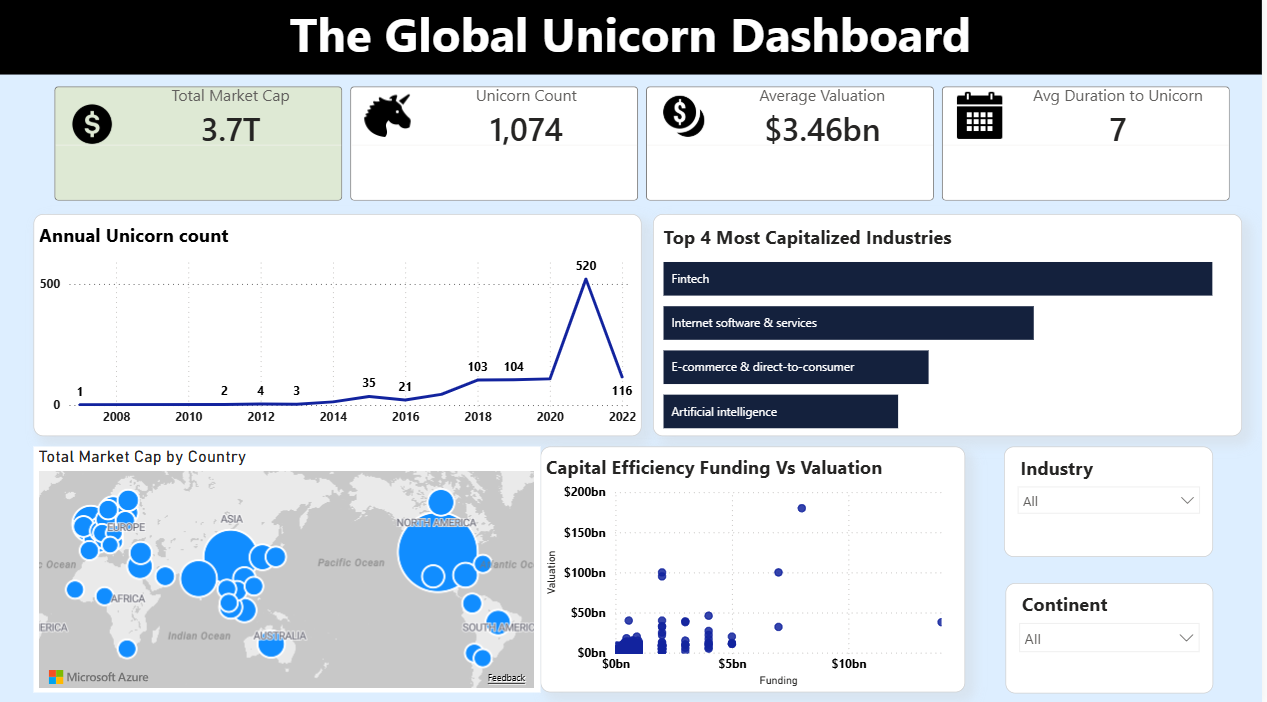

This screenshot's page, from the dashboard's own definition file:
{"tool":"powerbi","page":{"name":"Home","canvas":[1280,720],"ordinal":0},"visuals":[{"type":"cardVisual","fields":{"Data":["_measures.Total Market Cap","_measures.Unicorn Count","_measures.Average Valuation","_measures.Avg Duration to Unicorn"]},"box":[43.7,81,1217.7,140.9],"z":0},{"type":"lineChart","title":"Annual Unicorn count","fields":{"Y":["_measures.Unicorn Count"],"Category":["DateTable.Year"]},"box":[35.6,221.8,616.9,225.1],"z":1000},{"type":"barChart","title":"Top 4 Most Capitalized Industries","fields":{"Category":["Unicorn_Companies.Industry"],"Y":["_measures.Total Market Cap"]},"box":[663.9,221.8,597.5,225.1],"z":2000},{"type":"scatterChart","title":"Capital Efficiency Funding Vs Valuation","fields":{"X":["Sum(Unicorn_Companies.Funding)"],"Y":["Sum(Unicorn_Companies.Valuation)"],"Category":["Unicorn_Companies.Company"]},"box":[548.9,458.2,430.7,249.4],"z":3000},{"type":"slicer","fields":{"Values":["Unicorn_Companies.Industry"]},"box":[1018.5,458.2,212.1,111.7],"z":4000},{"type":"slicer","fields":{"Values":["Unicorn_Companies.Continent"]},"box":[1020.1,595.9,210.5,111.7],"z":5000},{"type":"textbox","box":[0,0,1280.8,81],"z":6000},{"type":"azureMap","fields":{"Category":["Unicorn_Companies.Country"],"Size":["_measures.Total Market Cap"]},"box":[35.6,458.2,513.3,249.4],"z":7000}]}

Visuals, with their boxes in screenshot pixels (x1, y1, x2, y2), scaled from the page's 1280x720 canvas onto the 1267x702 screenshot:
cardVisual - _measures.Total Market Cap x _measures.Unicorn Count: 43, 79, 1249, 216
"Annual Unicorn count" lineChart: 35, 216, 646, 436
"Top 4 Most Capitalized Industries" barChart: 657, 216, 1249, 436
"Capital Efficiency Funding Vs Valuation" scatterChart: 543, 447, 970, 690
slicer - Unicorn_Companies.Industry: 1008, 447, 1218, 556
slicer - Unicorn_Companies.Continent: 1010, 581, 1218, 690
textbox: 0, 0, 1266, 79
azureMap - Unicorn_Companies.Country x _measures.Total Market Cap: 35, 447, 543, 690
